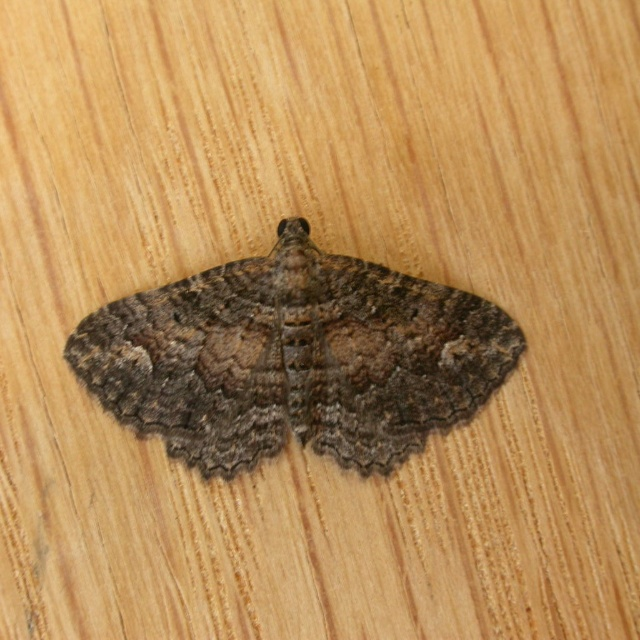Moths and butterflies: (62, 217, 532, 485)
